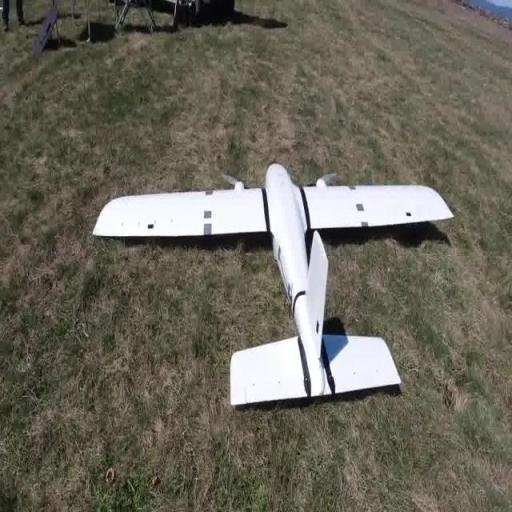uav: (87, 149, 457, 423)
